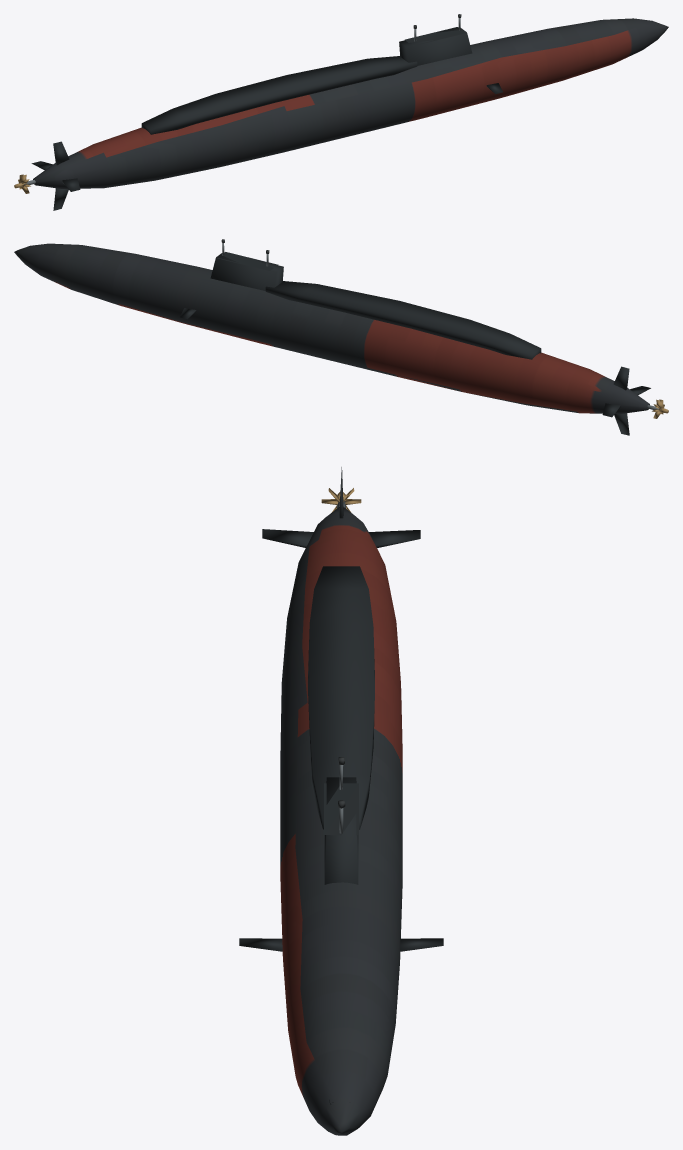
Rendered from CN_SSBN_Type092_LOD3.fbx.
3 renders of one model, top to bottom at view 1: azimuth 30°, elevation 25°; view 2: azimuth 150°, elevation 25°; view 3: azimuth 270°, elevation 25°, orthographic. The views are drawn at different scales.
Visible parts, largest first — view 1: CN_SSBN_Type092_LOD3; view 2: CN_SSBN_Type092_LOD3; view 3: CN_SSBN_Type092_LOD3.
Boxes of the visible parts, left/top/right/bottom form: CN_SSBN_Type092_LOD3: left=14, top=14, right=668, bottom=210; CN_SSBN_Type092_LOD3: left=14, top=239, right=668, bottom=435; CN_SSBN_Type092_LOD3: left=239, top=467, right=443, bottom=1135.
Size of the model in its own units: 124 by 16.73 by 17.53.
Materials: 6 (1 with a texture image).
